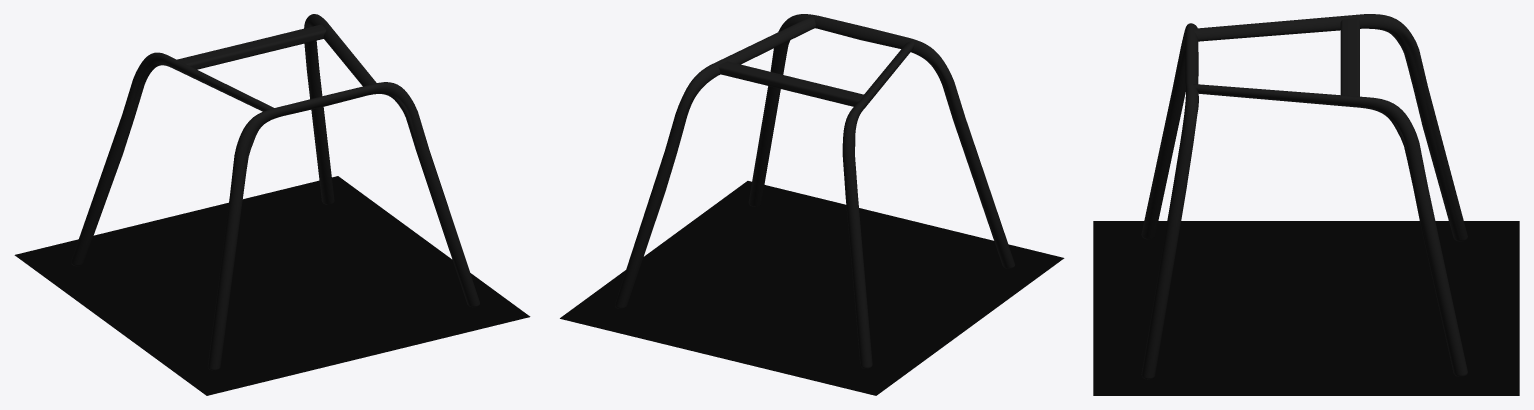
Rendered from Slim_v2.glb.
The picture shows the model from 3 angles, left to right: view 1: azimuth 30°, elevation 25°; view 2: azimuth 150°, elevation 25°; view 3: azimuth 270°, elevation 25°; orthographic projection. The views are drawn at different scales.
Visible parts, largest first — view 1: Shadow.001, legs.003; view 2: Shadow.001, legs.003; view 3: Shadow.001, legs.003.
Part boxes in pixels (x1=…): Shadow.001: x1=14, y1=176, x2=530, y2=395; legs.003: x1=71, y1=14, x2=479, y2=370; Shadow.001: x1=560, y1=181, x2=1064, y2=395; legs.003: x1=615, y1=14, x2=1015, y2=368; Shadow.001: x1=1093, y1=221, x2=1519, y2=395; legs.003: x1=1141, y1=14, x2=1467, y2=379.
Size of the model in its own units: 0.5956 by 0.4013 by 0.6133.
Materials: 2 (1 with a texture image).
